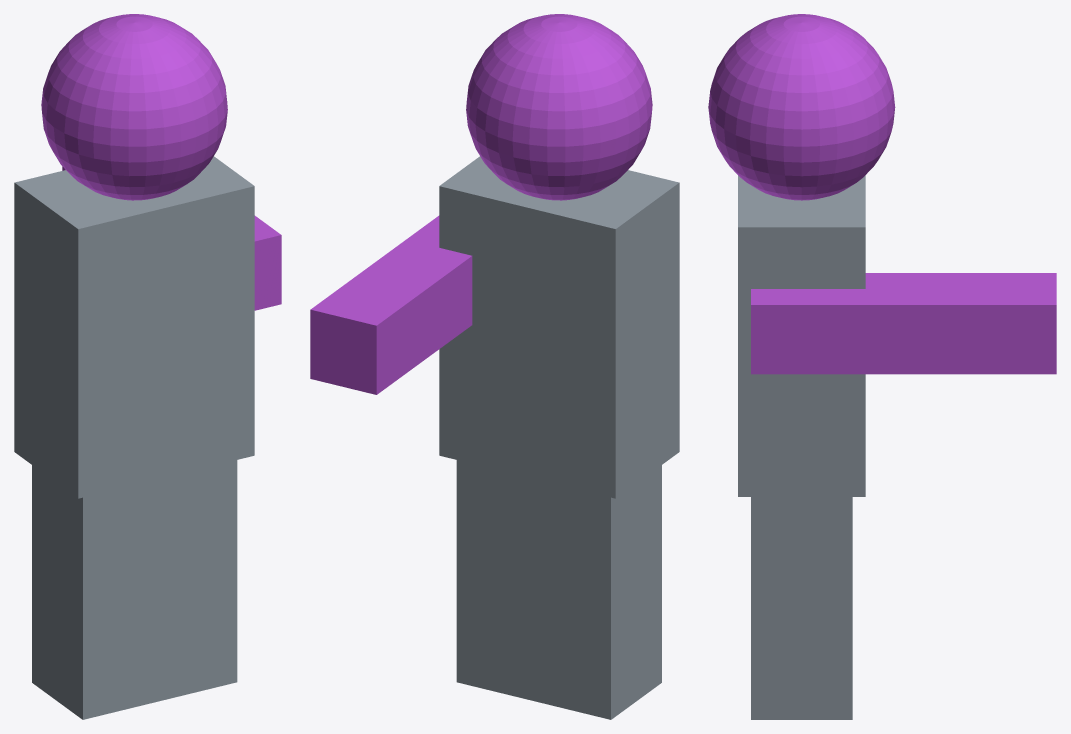
File: CH_CausalityEngineer_LOD0.glb
3 renders of one model, left to right at view 1: azimuth 30°, elevation 25°; view 2: azimuth 150°, elevation 25°; view 3: azimuth 270°, elevation 25°, orthographic.
Visible parts, largest first — view 1: Head; view 2: Head; view 3: Head.
Part boxes in pixels (box(x1,y1,x2,y2)): Head: box(14, 14, 281, 719); Head: box(310, 14, 679, 719); Head: box(708, 14, 1056, 719).
Bounding box in the file's own units: 57 × 171 × 82.
